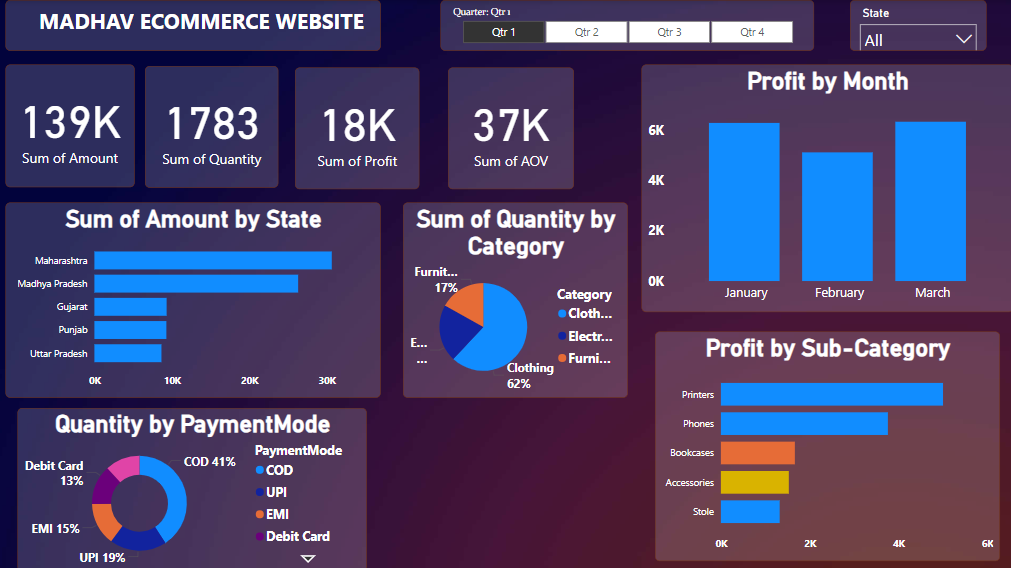

What the dashboard file says about the page in this screenshot:
{"tool":"powerbi","page":{"name":"Page 1","canvas":[1280,720],"ordinal":0},"visuals":[{"type":"textbox","box":[9.4,0,472.4,64.3],"z":0},{"type":"columnChart","title":"Profit by Month","fields":{"Category":["Orders.Order Date.Variation.Date Hierarchy.Month"],"Y":["Sum(Details.Profit)"]},"box":[810.7,81.3,468.7,311.8],"z":1000},{"type":"barChart","title":"Profit by Sub-Category","fields":{"Category":["Details.Sub-Category"],"Y":["Sum(Details.Profit)"]},"box":[827.7,417.6,434.6,289.1],"z":2000},{"type":"donutChart","fields":{"Category":["Details.Category"],"Y":["Sum(Details.Quantity)"]},"box":[510.2,255.1,283.5,245.7],"z":3000},{"type":"donutChart","title":"Quantity by PaymentMode","fields":{"Category":["Details.PaymentMode"],"Y":["Sum(Details.Quantity)"]},"box":[24.6,514,440.3,206],"z":4000},{"type":"card","fields":{"Values":["Sum(Details.Amount)"]},"box":[9.4,81.3,162.5,155],"z":5000},{"type":"card","fields":{"Values":["Sum(Details.Quantity)"]},"box":[185.2,83.2,168.2,153.1],"z":6000},{"type":"card","fields":{"Values":["Sum(Details.Profit)"]},"box":[374.2,85,156.9,153.1],"z":7000},{"type":"card","fields":{"Values":["Sum(Details.AOV)"]},"box":[566.9,85,158.7,153.1],"z":8000},{"type":"barChart","fields":{"Category":["Orders.State"],"Y":["Sum(Details.Amount)"]},"box":[9.4,255.1,472.4,245.7],"z":9000},{"type":"slicer","fields":{"Values":["Orders.Order Date.Variation.Date Hierarchy.Quarter"]},"box":[557.5,0,470.6,64.3],"z":10000},{"type":"slicer","fields":{"Values":["Orders.State"]},"box":[1073.4,0,172,64.3],"z":10001}]}

Visuals, with their boxes in screenshot pixels (x1, y1, x2, y2), scaled from the page's 1280x720 canvas onto the 1011x568 screenshot:
textbox: pyautogui.locateOnScreen(7, 0, 381, 51)
"Profit by Month" columnChart: pyautogui.locateOnScreen(640, 64, 1010, 310)
"Profit by Sub-Category" barChart: pyautogui.locateOnScreen(654, 329, 997, 558)
donutChart - Details.Category x Sum(Details.Quantity): pyautogui.locateOnScreen(403, 201, 627, 395)
"Quantity by PaymentMode" donutChart: pyautogui.locateOnScreen(19, 405, 367, 567)
card - Sum(Details.Amount): pyautogui.locateOnScreen(7, 64, 136, 186)
card - Sum(Details.Quantity): pyautogui.locateOnScreen(146, 66, 279, 186)
card - Sum(Details.Profit): pyautogui.locateOnScreen(296, 67, 419, 188)
card - Sum(Details.AOV): pyautogui.locateOnScreen(448, 67, 573, 188)
barChart - Orders.State x Sum(Details.Amount): pyautogui.locateOnScreen(7, 201, 381, 395)
slicer - Orders.Order Date.Variation.Date Hierarchy.Quarter: pyautogui.locateOnScreen(440, 0, 812, 51)
slicer - Orders.State: pyautogui.locateOnScreen(848, 0, 984, 51)
